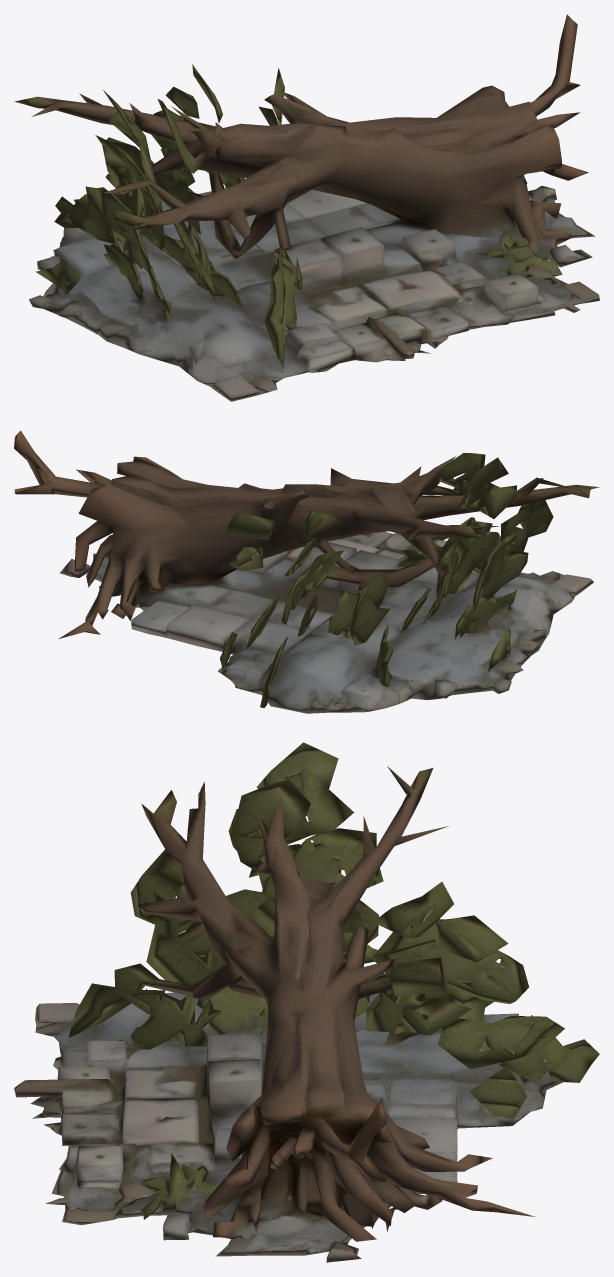
The model's file is SM_Vegetation_FallenTree_01.fbx.
The picture shows the model from 3 angles, top to bottom: view 1: azimuth 30°, elevation 25°; view 2: azimuth 150°, elevation 25°; view 3: azimuth 270°, elevation 25°; orthographic projection. The views are drawn at different scales.
Parts seen in each view (by area): view 1: SM_Vegetation_FallenTree_01; view 2: SM_Vegetation_FallenTree_01; view 3: SM_Vegetation_FallenTree_01.
Boxes of the visible parts, box(x1,y1,x2,y2) form: SM_Vegetation_FallenTree_01: box(14, 14, 599, 401); SM_Vegetation_FallenTree_01: box(14, 430, 599, 713); SM_Vegetation_FallenTree_01: box(14, 742, 599, 1262).
Bounding box in the file's own units: 1 × 0.394 × 0.796.
1 material, 1 textured.
